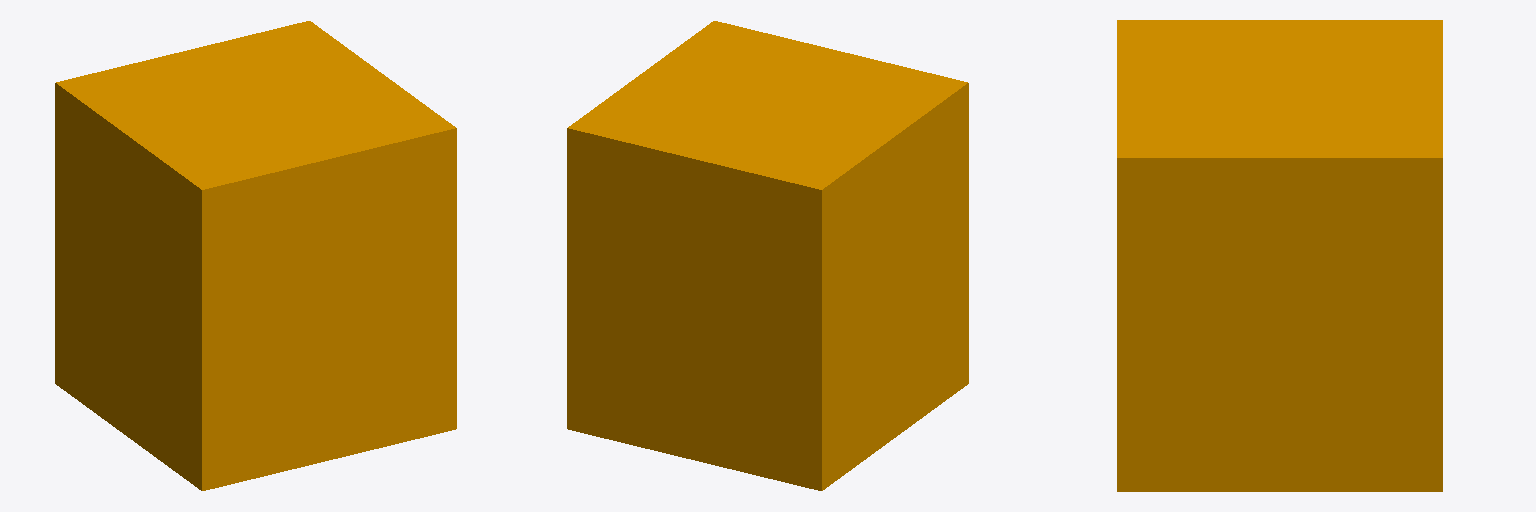
The robot description file, URDF, robot "rect":
<?xml version="1.0"?>
<robot name="rect">
  <link name="rect">
    <visual>
      <origin xyz="0 0 0"/>
      <geometry>
        <mesh filename="./rect.stl"/>
      </geometry>
    </visual>
    <collision>
      <origin xyz="0 0 0"/>
      <geometry>
        <mesh filename="./rect.stl"/>
      </geometry>
    </collision>
    <inertial>
      <mass value="0.5"/>
      <inertia ixx="0.05" ixy="0.0" ixz="0.0" iyy="0.05" iyz="0.0" izz="0.05"/>
    </inertial>
  </link>
</robot>

--- What the picture shows (computed from the rendered views, not written in the file) ---
Views: 3 orthographic renders of the robot side by side, from view 1: azimuth 30°, elevation 25°; view 2: azimuth 150°, elevation 25°; view 3: azimuth 270°, elevation 25°.
Model rect with 1 links and 0 joints (none), rooted at rect, posed all joints at 0.
Visible links, largest first — view 1: rect; view 2: rect; view 3: rect.
Link boxes in pixels (bbox=[...]): rect: bbox=[55, 21, 456, 490]; rect: bbox=[567, 21, 968, 490]; rect: bbox=[1117, 20, 1442, 491].
Size in the robot's own frame: 0.7071 by 0.7071 by 0.8 metres.
Meshes: 1 distinct files referenced, 1 mesh visuals loaded (1 binary STL).